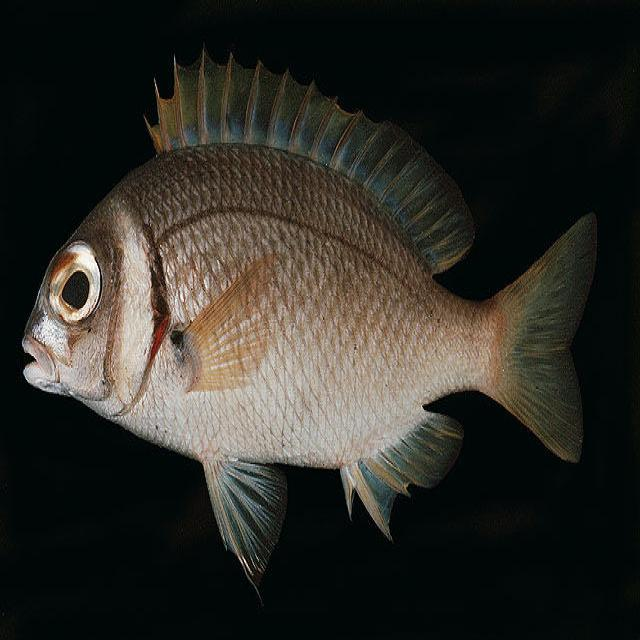ikan: (20, 45, 599, 603)
